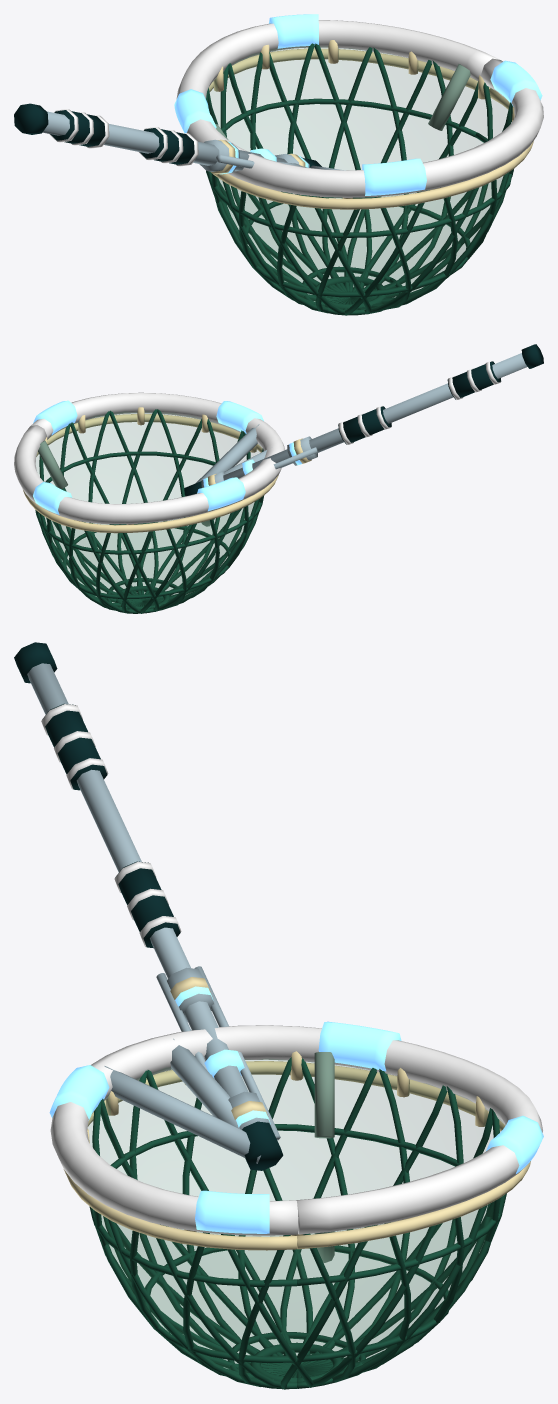
Rendered from net-red-aurora.glb.
3 views of the same model, one above another, from view 1: azimuth 30°, elevation 25°; view 2: azimuth 150°, elevation 25°; view 3: azimuth 270°, elevation 25° (orthographic). The views are drawn at different scales.
Parts seen in each view (by area): view 1: Open woven pouch.005, Woven green cord.005, NetColor.011, Equipment cream.014, Signal red-aurora.001, Brushed steel.002, Equipment lagoon.013, NetColor.010, Recovered metal.004; view 2: Open woven pouch.005, Woven green cord.005, NetColor.011, Equipment cream.014, Signal red-aurora.001, Brushed steel.002, Equipment lagoon.013, Brushed steel.003, NetColor.010, Recovered metal.004; view 3: Open woven pouch.005, Woven green cord.005, NetColor.011, Equipment cream.014, Brushed steel.002, Signal red-aurora.001, Brushed steel.003, Equipment lagoon.013, NetColor.010, Recovered metal.004, Equipment lagoon.014, Signal red-aurora.
Boxes of the visible parts, bbox=[...] form: Open woven pouch.005: bbox=[208, 46, 510, 311]; Woven green cord.005: bbox=[206, 43, 513, 315]; NetColor.011: bbox=[176, 20, 543, 197]; Equipment cream.014: bbox=[209, 40, 533, 209]; Signal red-aurora.001: bbox=[174, 14, 542, 195]; Brushed steel.002: bbox=[42, 111, 309, 174]; Equipment lagoon.013: bbox=[14, 103, 194, 164]; NetColor.010: bbox=[49, 109, 198, 166]; Recovered metal.004: bbox=[215, 64, 470, 139]; Open woven pouch.005: bbox=[36, 411, 261, 611]; Woven green cord.005: bbox=[35, 409, 264, 613]; NetColor.011: bbox=[14, 392, 285, 524]; Equipment cream.014: bbox=[23, 407, 278, 533]; Signal red-aurora.001: bbox=[33, 400, 263, 514]; Brushed steel.002: bbox=[201, 353, 527, 487]; Equipment lagoon.013: bbox=[338, 344, 543, 444]; Brushed steel.003: bbox=[196, 424, 266, 482]; NetColor.010: bbox=[338, 361, 500, 444]; Recovered metal.004: bbox=[38, 440, 214, 526]; Open woven pouch.005: bbox=[88, 1059, 504, 1384]; Woven green cord.005: bbox=[89, 1057, 506, 1389]; NetColor.011: bbox=[50, 1025, 542, 1235]; Equipment cream.014: bbox=[63, 1051, 530, 1250]; Brushed steel.002: bbox=[27, 663, 280, 1140]; Signal red-aurora.001: bbox=[49, 1021, 543, 1233]; Brushed steel.003: bbox=[104, 1038, 260, 1163]; Equipment lagoon.013: bbox=[14, 642, 180, 948]; NetColor.010: bbox=[41, 704, 181, 947]; Recovered metal.004: bbox=[314, 1052, 334, 1262]; Equipment lagoon.014: bbox=[242, 1121, 283, 1170]; Signal red-aurora: bbox=[175, 986, 270, 1127].
Size of the model in its own units: 3.1 by 1.88 by 1.91.
